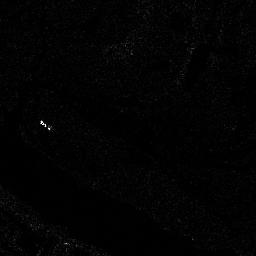ship: (39, 118, 54, 133)
